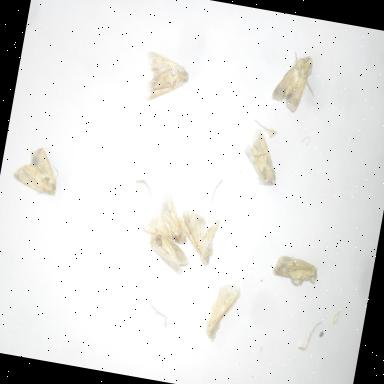abw: (267, 46, 323, 118), (169, 202, 225, 272), (136, 45, 195, 110), (8, 138, 66, 201), (236, 123, 287, 190), (138, 190, 196, 248), (201, 277, 245, 348), (142, 226, 198, 279), (264, 251, 322, 294)
